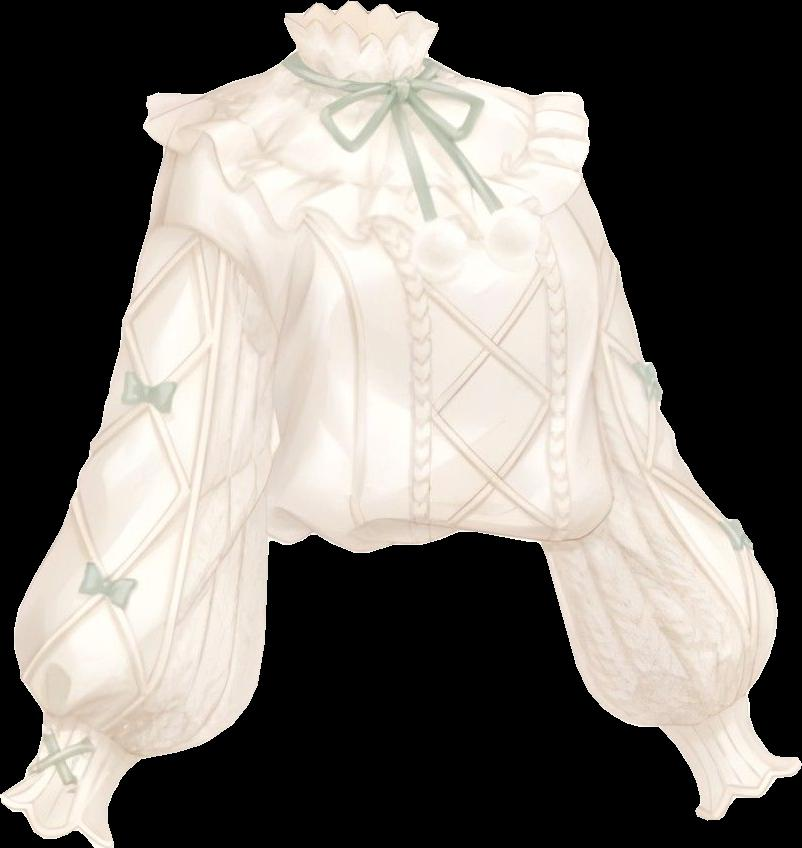Bodice: (144, 1, 612, 553)
Neckline: (198, 89, 541, 193), (281, 14, 443, 60)
Sleeve: (0, 136, 297, 847), (541, 174, 800, 820)
Sleeveline: (164, 146, 307, 265), (147, 215, 283, 330), (41, 709, 140, 770)
Waistline: (138, 92, 592, 250), (264, 502, 617, 557)
